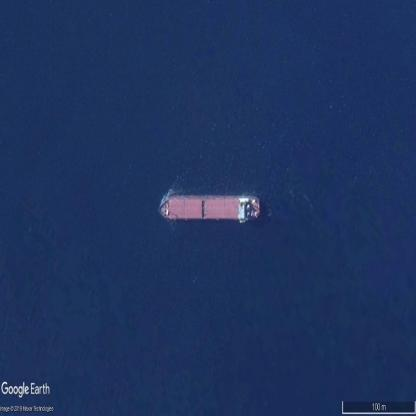ship: (158, 195, 260, 222)
